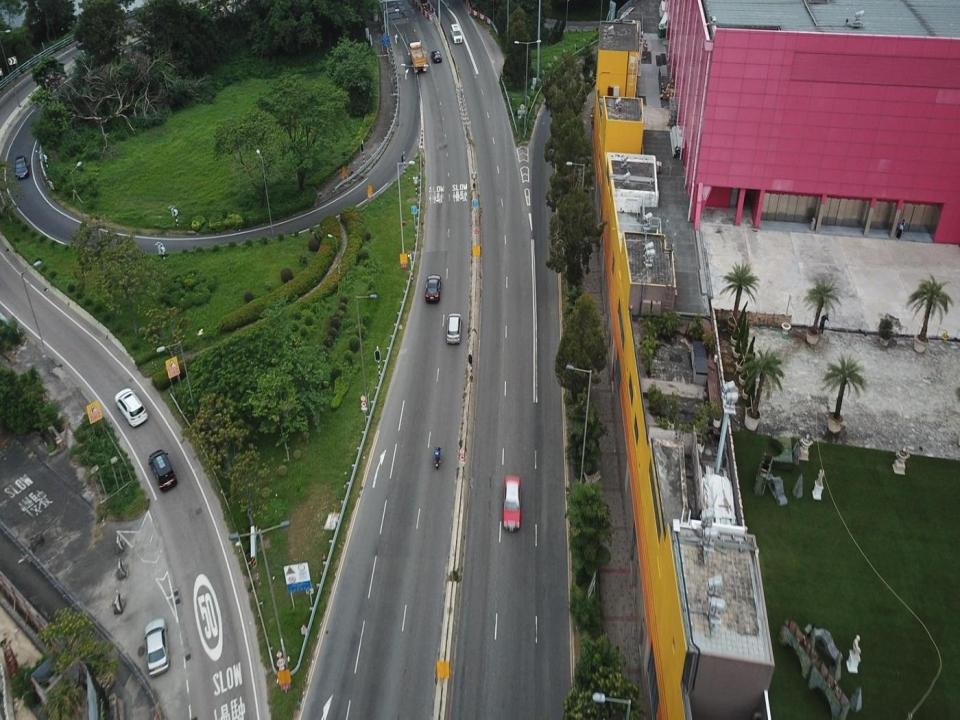car: (143, 619, 172, 677), (114, 388, 147, 430), (501, 471, 522, 532), (148, 450, 178, 492), (444, 312, 463, 344), (424, 271, 441, 304), (13, 154, 30, 179), (450, 21, 463, 44), (430, 49, 444, 64)
truck: (408, 37, 429, 74)
